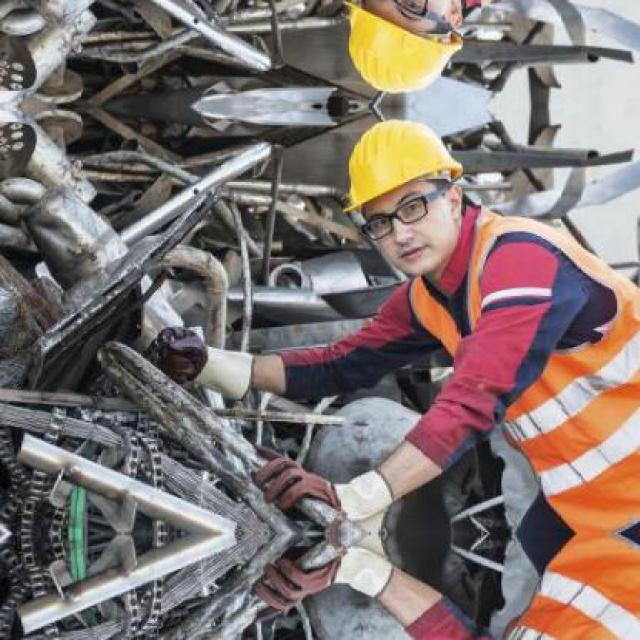helmet: (325, 110, 487, 289), (324, 0, 487, 103)
